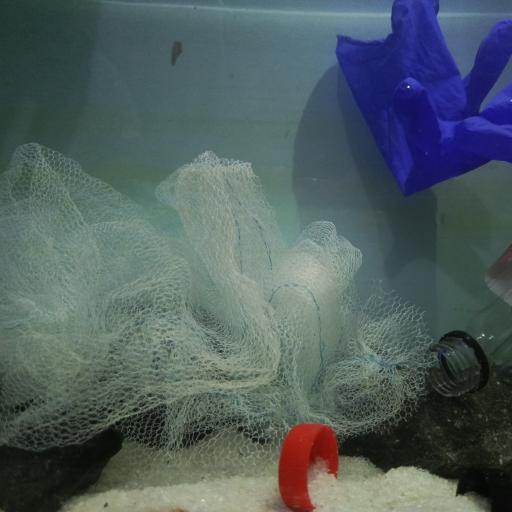bottle_cap: (279, 418, 339, 512)
glove: (335, 2, 512, 198)
net: (0, 140, 438, 463)
plastic_bottle: (425, 242, 512, 398)
